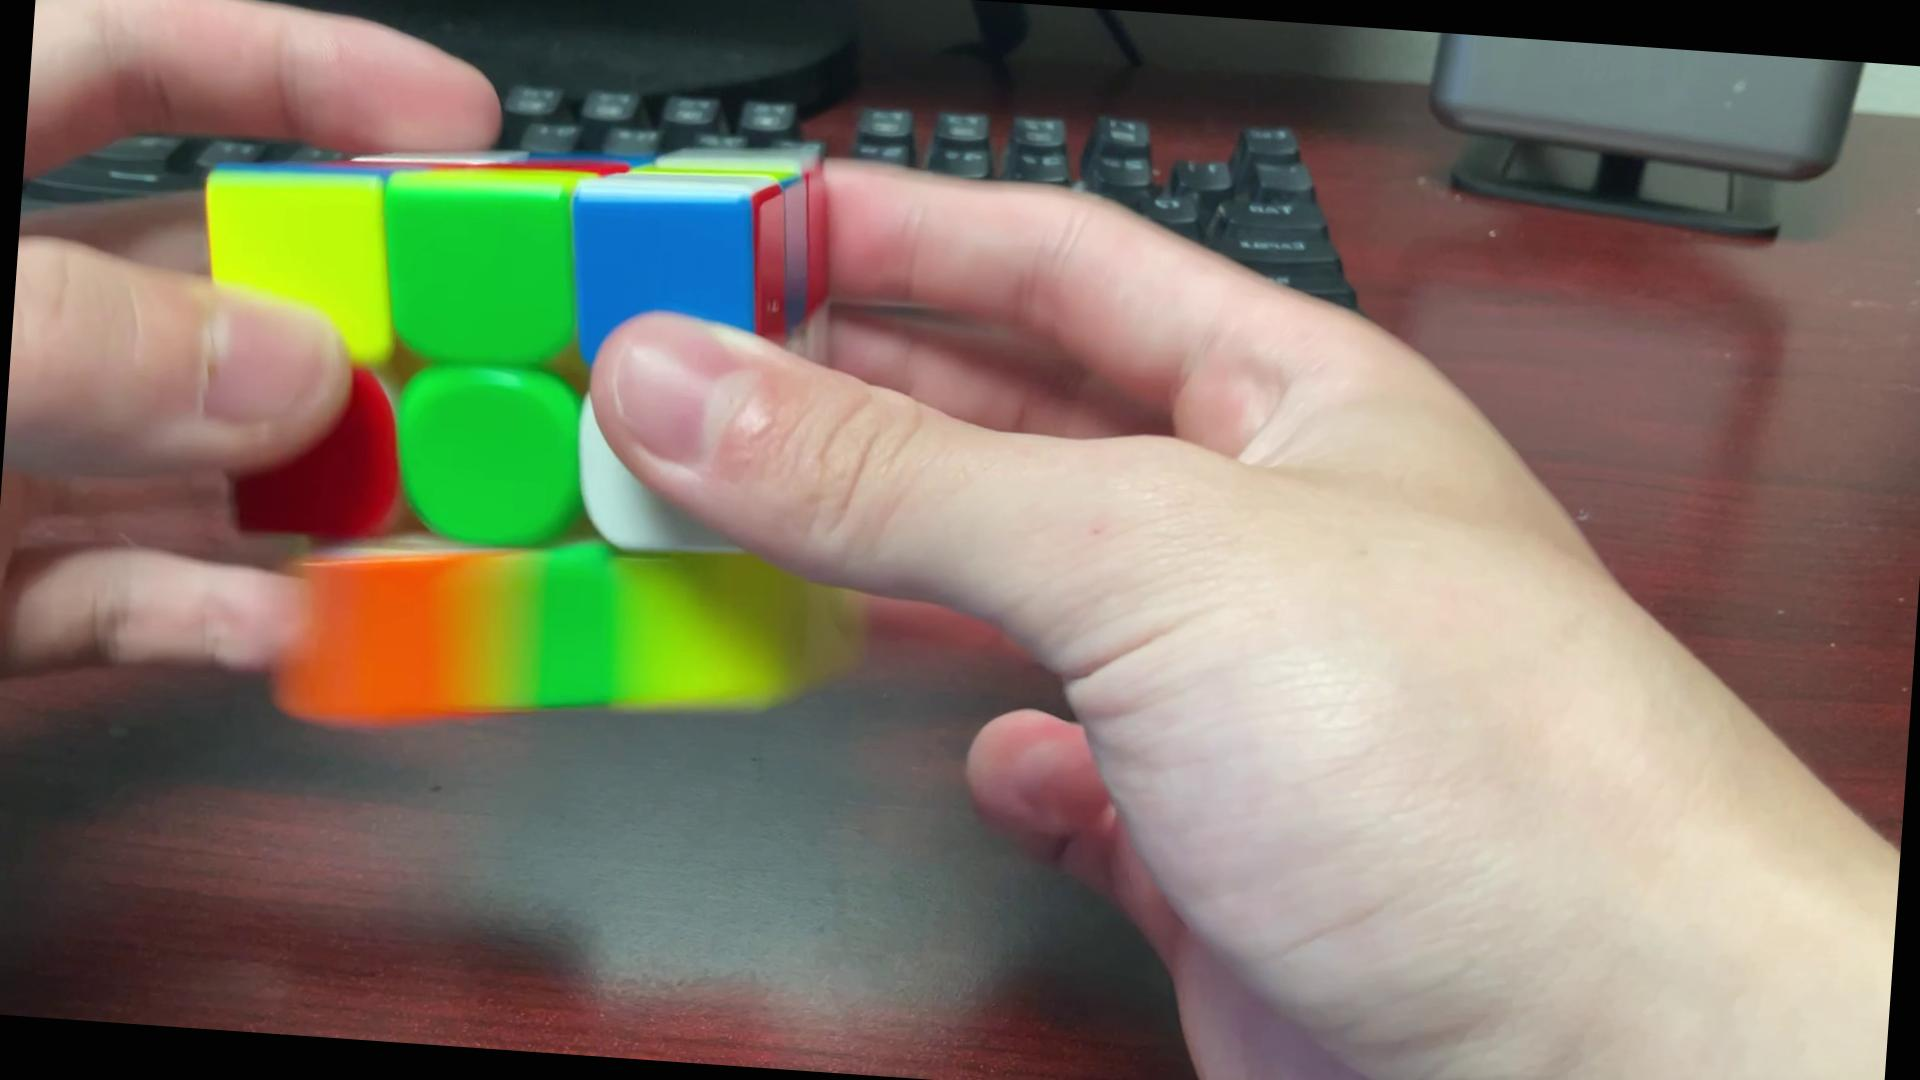Rubiks-Cube: (162, 70, 923, 766)
